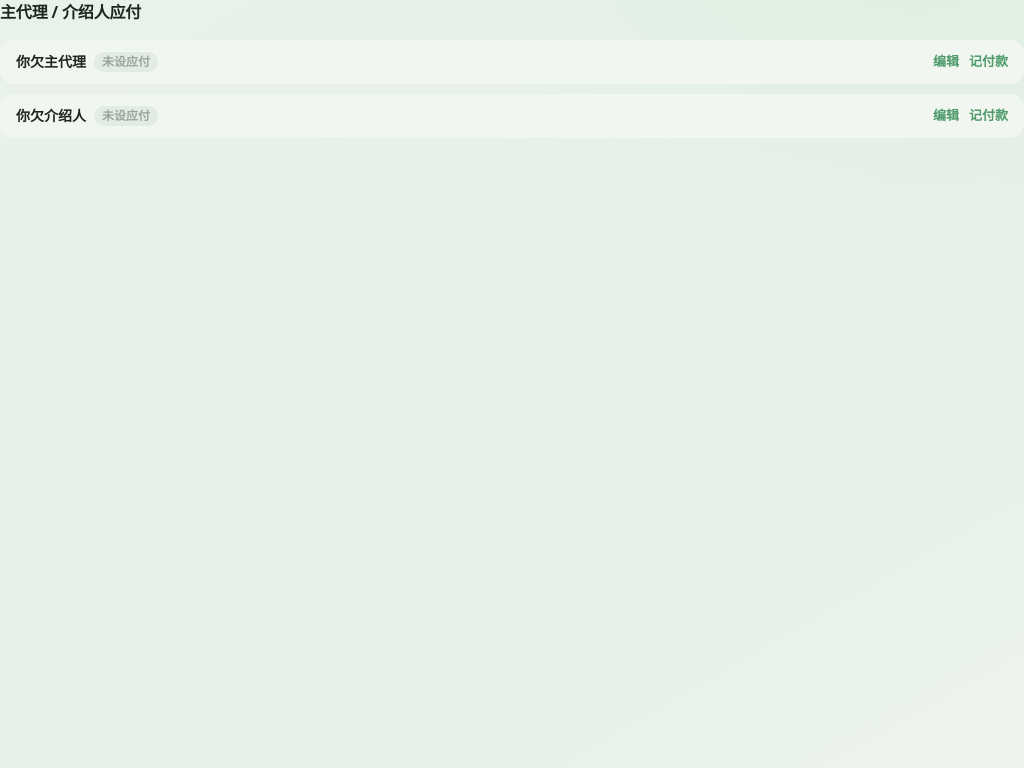
Test: PayablePanel 每行操作 + 状态派生 › 点介绍人「编辑」(未设亦可)→ 只显介绍人总额，不显主代理（互不混）
Click the button "编辑" in the row of "你欠介绍人" at (946,116), box [933,106,959,126]
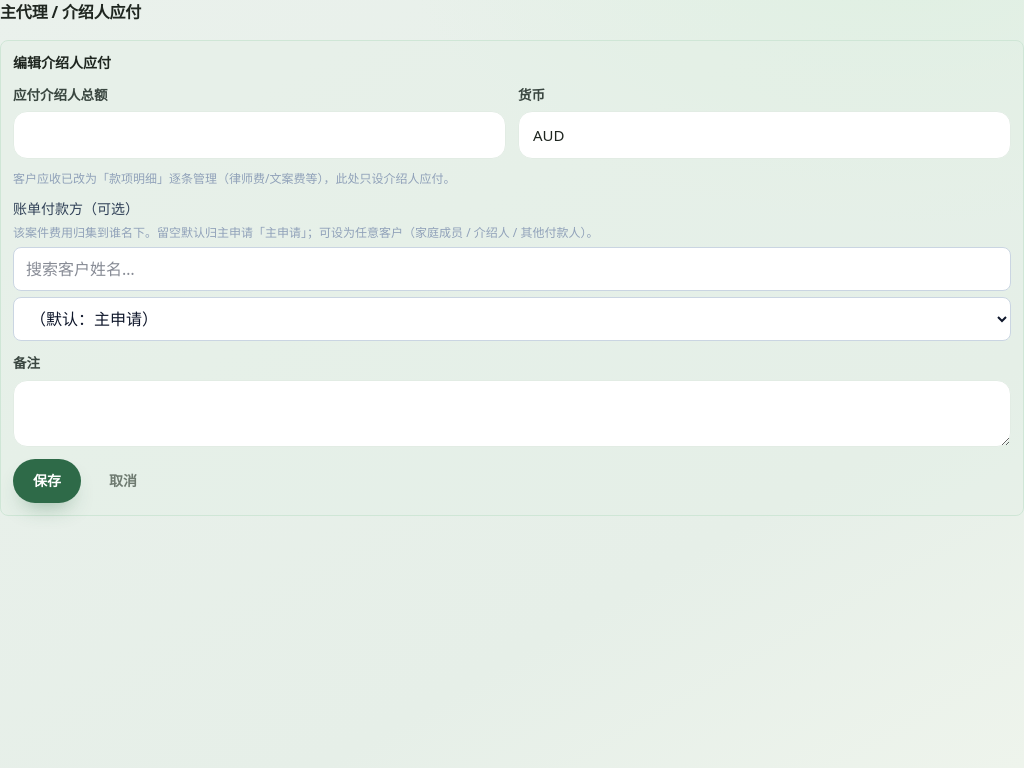
Check: the text "编辑介绍人应付" is shown, box [13,53,111,72]
Check: the text "应付介绍人总额" is shown, box [13,86,108,104]
